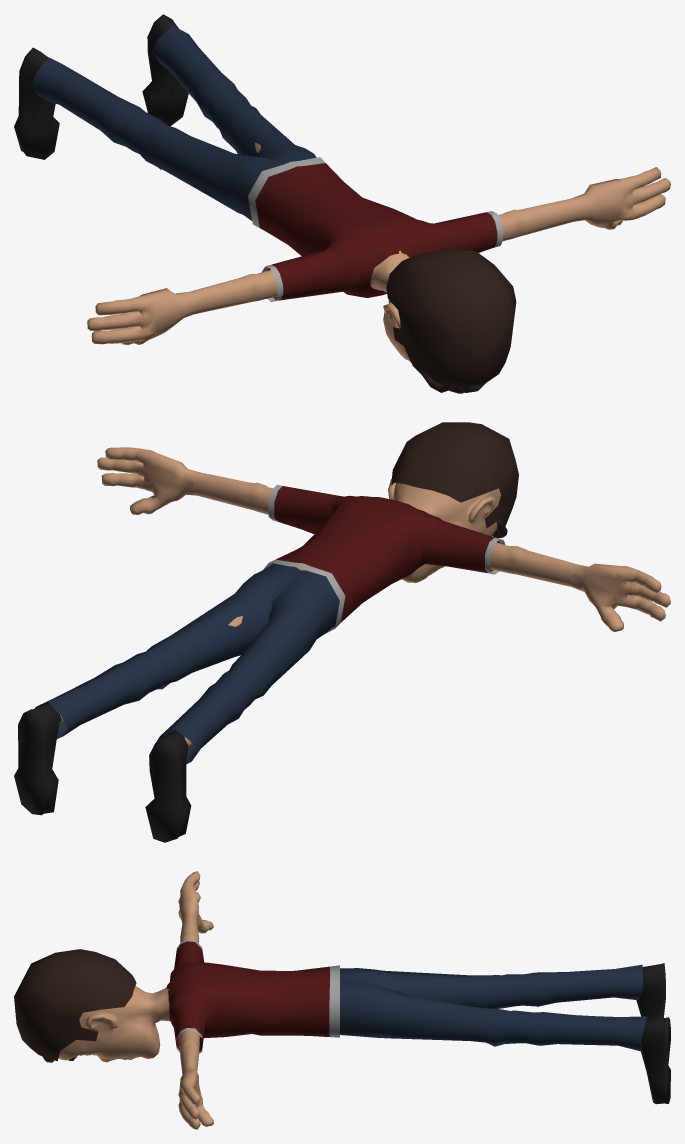
Rendered from Porl-3.obj.
3 views of the same model, one above another, from view 1: azimuth 30°, elevation 25°; view 2: azimuth 150°, elevation 25°; view 3: azimuth 270°, elevation 25° (orthographic). The views are drawn at different scales.
Visible parts, largest first — view 1: Pants_Plane.021; view 2: Pants_Plane.021; view 3: Pants_Plane.021.
Part boxes in pixels (x1,y1,x2,y2): Pants_Plane.021: [14, 14, 670, 393]; Pants_Plane.021: [14, 422, 670, 842]; Pants_Plane.021: [14, 871, 670, 1129].
Size of the model in its own units: 6.04 by 1.43 by 7.15.
